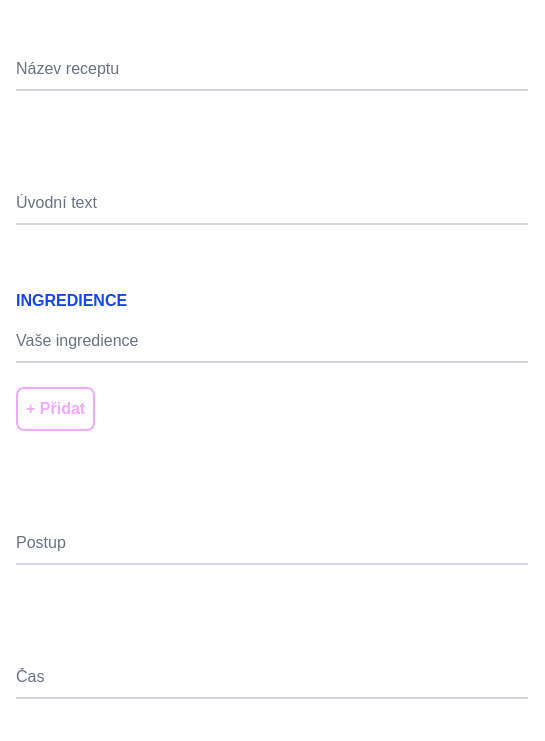
Test case: AddRecipeForm › does not submit the form if description is missing
The width and height of the screenshot is (545, 741).
Type "Pizza" into the field with placeholder "Název receptu" at (272, 70), box [16,49,528,91]
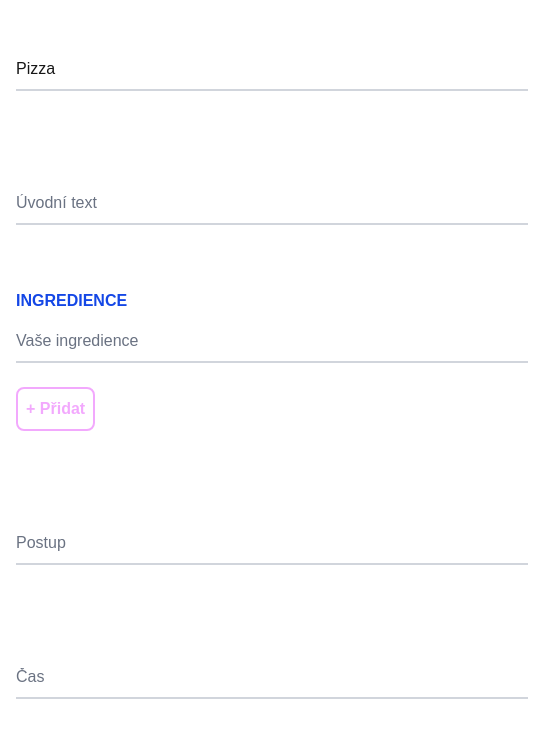
Type "Cheesy" into the field with placeholder "Úvodní text" at (272, 204), box [16,183,528,225]
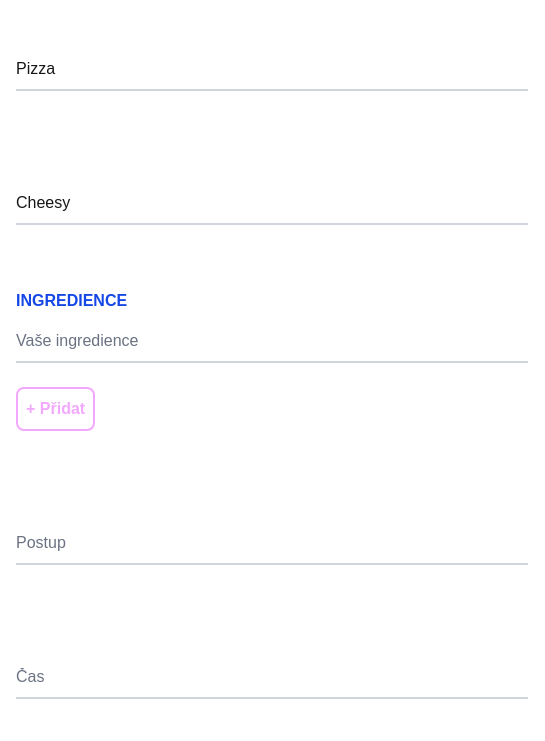
Type "Cheese" into the field with placeholder "Vaše ingredience" at (272, 342), box [16,321,528,363]
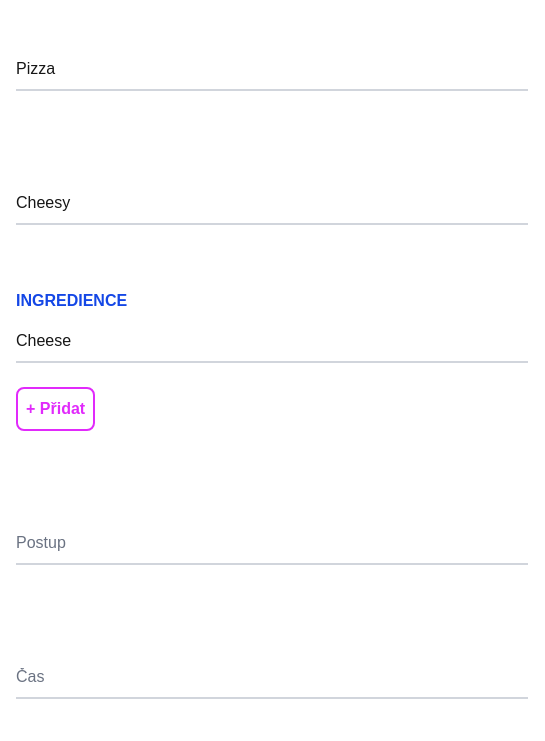
Type "30" into the number field with placeholder "Čas" at (272, 678), box [16,657,528,699]
(page scrolled)
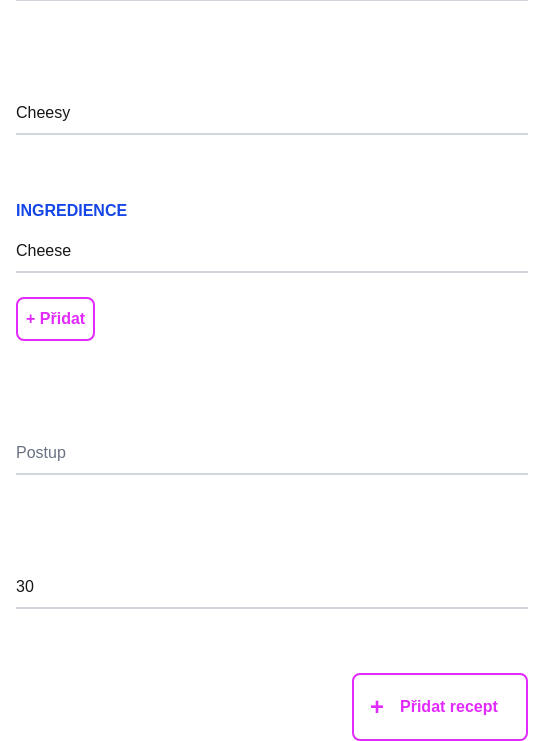
Click the button with test id "submit-button" at (440, 707), box [352,673,528,740]
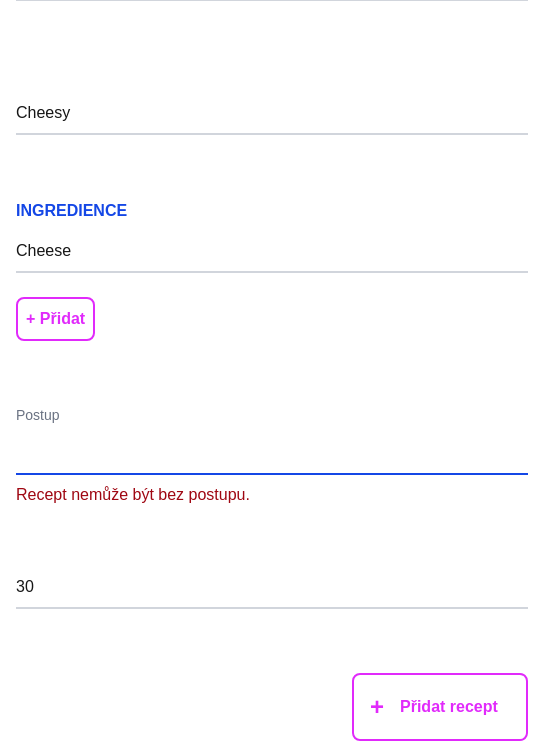
Expected: the text "Recept nemůže být bez postupu." is shown, [16,483,250,507]
